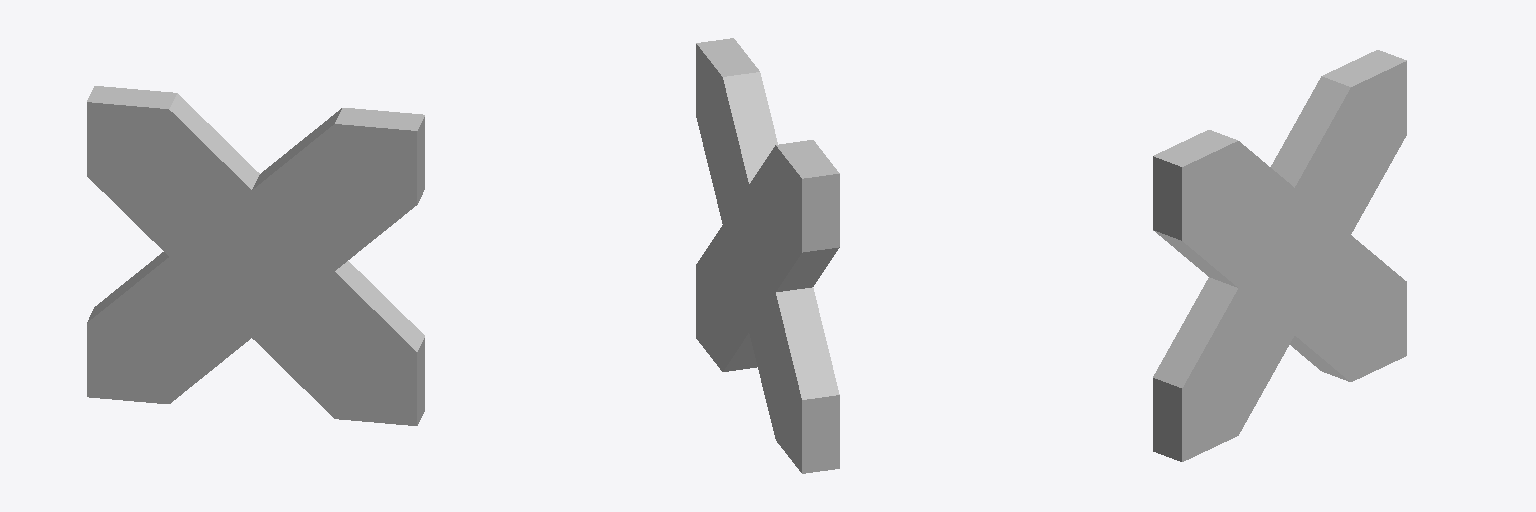
The model's file is letter_x.obj.
3 views of the same model, side by side, from view 1: azimuth 30°, elevation 25°; view 2: azimuth 150°, elevation 25°; view 3: azimuth 270°, elevation 25° (orthographic).
Parts seen in each view (by area): view 1: Cube.001; view 2: Cube.001; view 3: Cube.001.
Boxes of the visible parts, box(x1,y1,x2,y2) form: Cube.001: box(87, 86, 424, 425); Cube.001: box(696, 38, 839, 473); Cube.001: box(1153, 50, 1406, 461).
Size of the model in its own units: 0.4719 by 0.5519 by 0.4312.